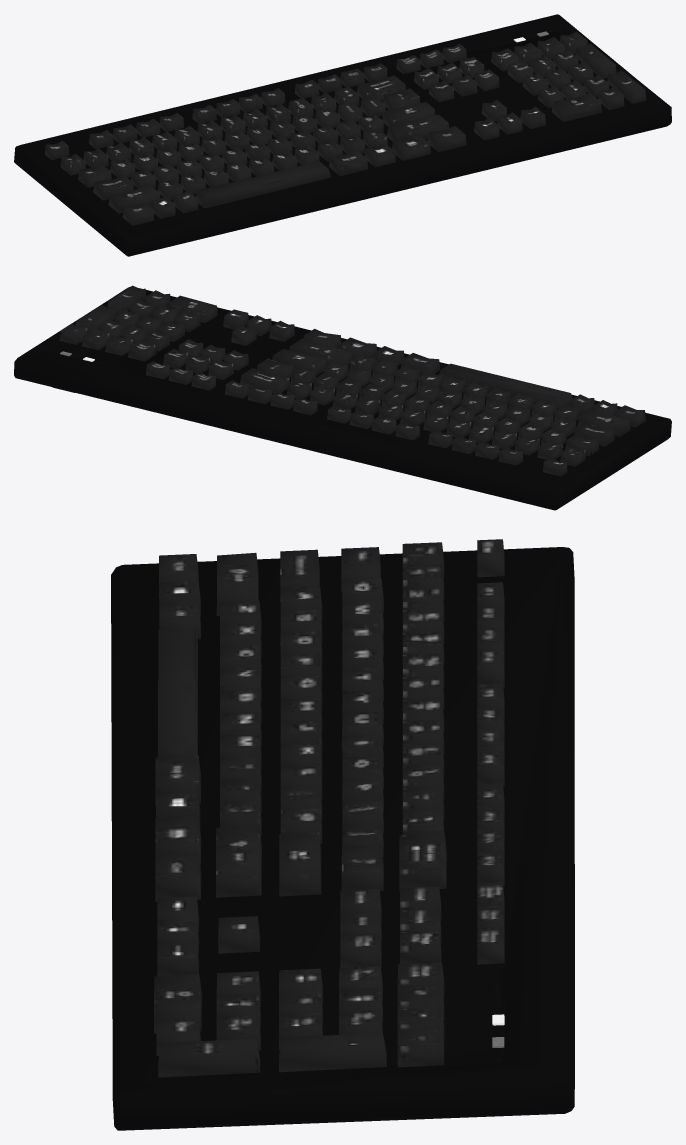
Rendered from teclado.glb.
The picture shows the model from 3 angles, top to bottom: view 1: azimuth 30°, elevation 25°; view 2: azimuth 150°, elevation 25°; view 3: azimuth 270°, elevation 25°; orthographic projection. The views are drawn at different scales.
Visible parts, largest first — view 1: Teclado_Teclado_0; view 2: Teclado_Teclado_0; view 3: Teclado_Teclado_0.
Boxes of the visible parts, <box> form: Teclado_Teclado_0: <box>14,14,671,256</box>; Teclado_Teclado_0: <box>14,285,671,510</box>; Teclado_Teclado_0: <box>111,539,574,1130</box>.
Bounding box in the file's own units: 0.4897 × 0.0346 × 0.1802.
1 material, 1 textured.
